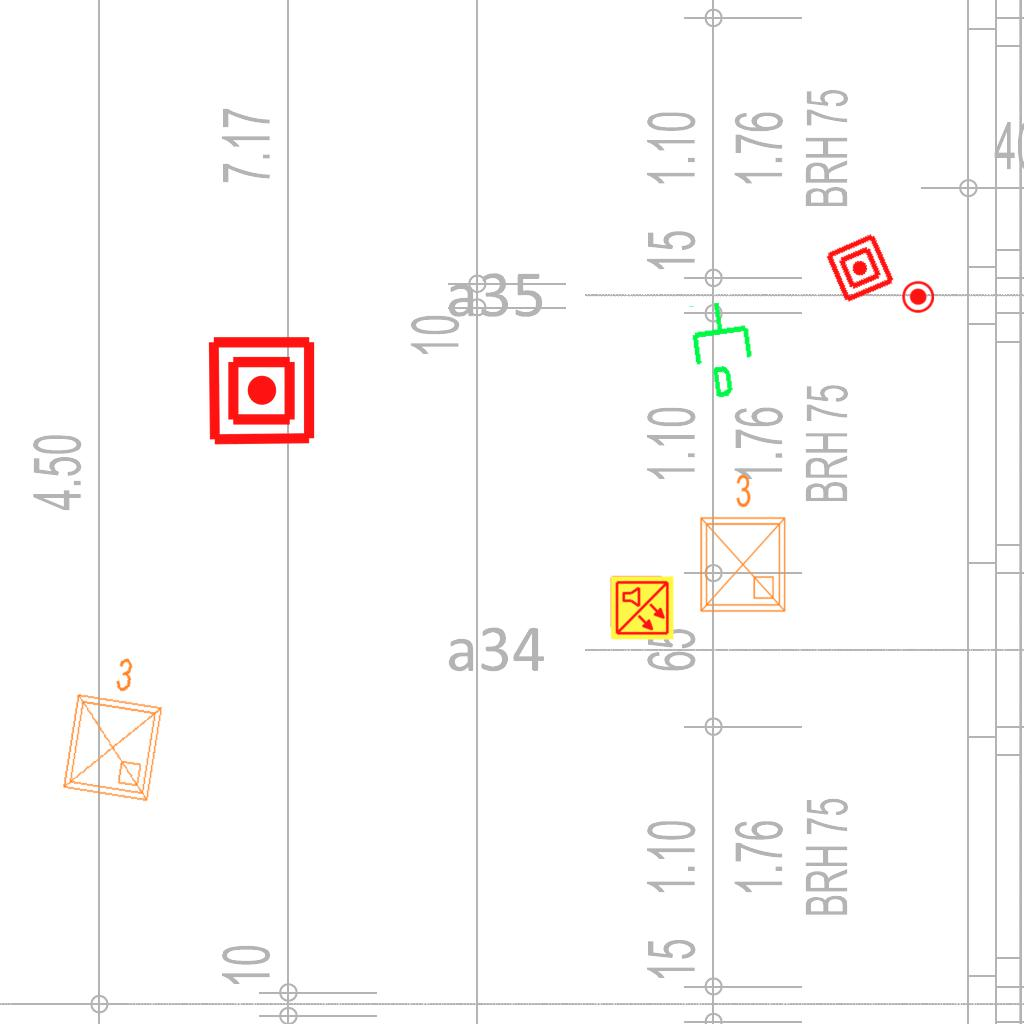Datenanschluss_einfach: (683, 294, 766, 404)
Einbaudownlights_LED_Konferenzraeume: (50, 644, 178, 810), (689, 469, 793, 619)
NAM-Nichtautomatischer_Melder: (205, 334, 318, 447), (823, 231, 897, 305)
OKW_Multisensormelder_(Kombination_optischer_Rauch-Kahlenmonoxid_Waerme-Melder): (609, 575, 675, 641)
Taster: (901, 280, 934, 313)
